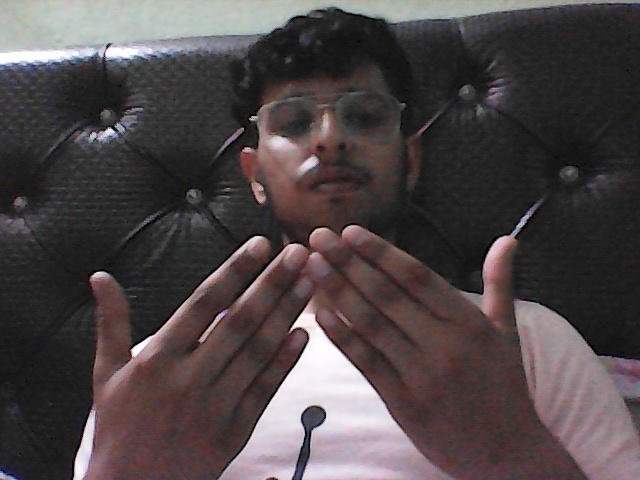thankyou: (41, 237, 570, 472)
